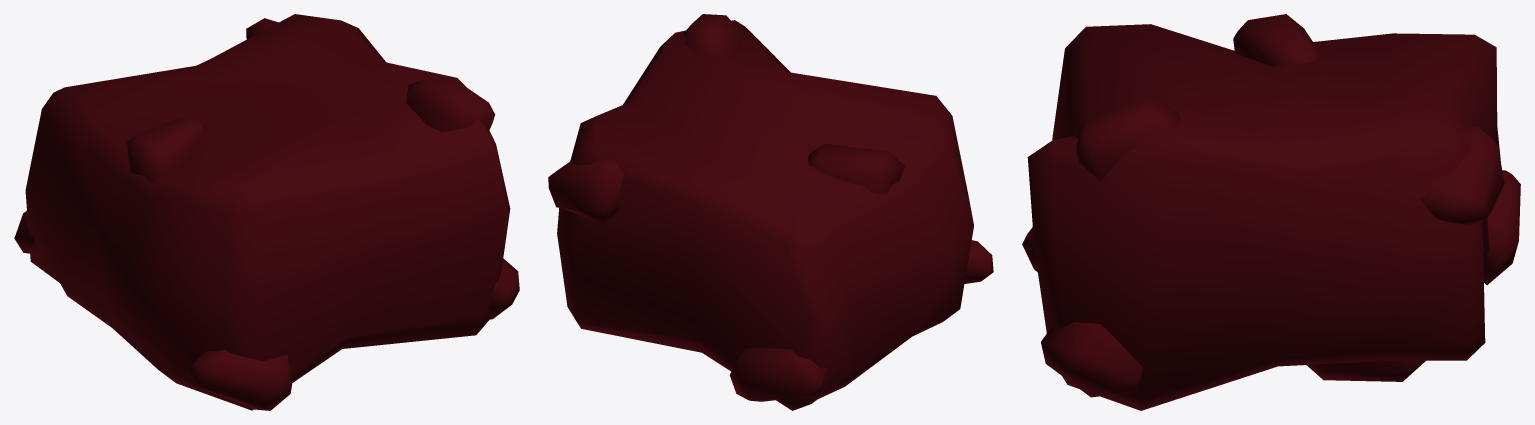
Rendered from Tungsten.fbx.
3 views of the same model, side by side, from view 1: azimuth 30°, elevation 25°; view 2: azimuth 150°, elevation 25°; view 3: azimuth 270°, elevation 25° (orthographic). The views are drawn at different scales.
Parts seen in each view (by area): view 1: Tungsten_LOD0; view 2: Tungsten_LOD0; view 3: Tungsten_LOD0.
Part boxes in pixels (left/top/right/bottom): Tungsten_LOD0: left=14, top=14, right=519, bottom=410; Tungsten_LOD0: left=548, top=14, right=993, bottom=410; Tungsten_LOD0: left=1022, top=14, right=1520, bottom=410.
Size of what is drawn, in the model's own units: 0.2698 by 0.1895 by 0.2862.
